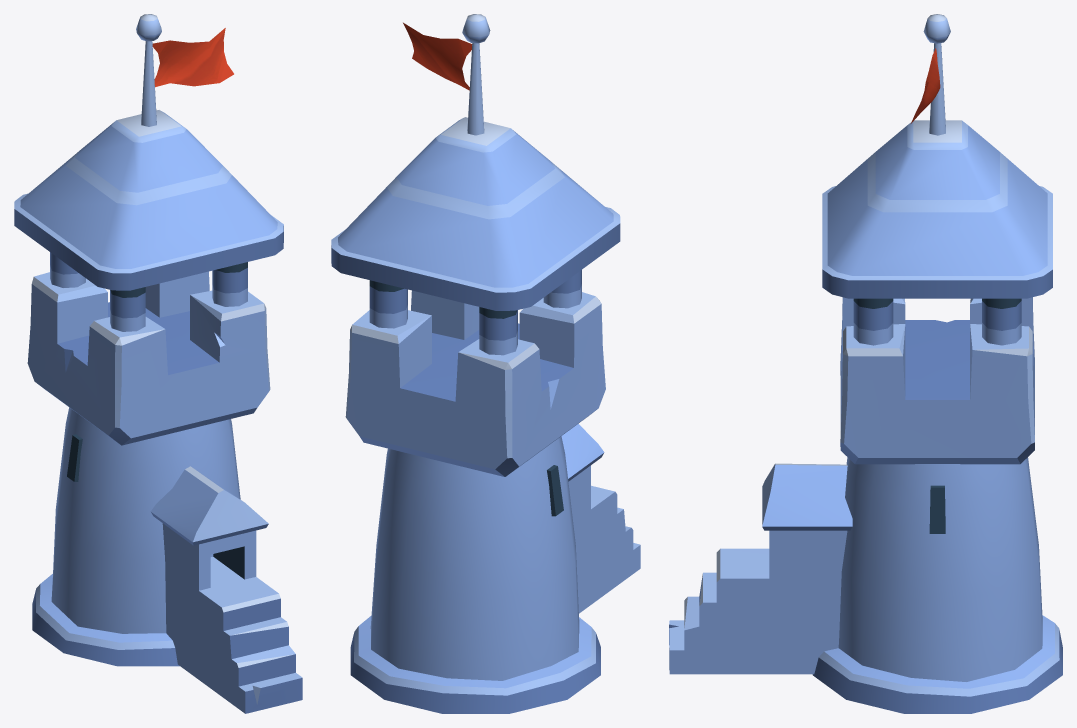
The model's file is Land_XMAS_Reg_S_IceTower.fbx.
3 renders of one model, left to right at view 1: azimuth 30°, elevation 25°; view 2: azimuth 150°, elevation 25°; view 3: azimuth 270°, elevation 25°, orthographic. The views are drawn at different scales.
Visible parts, largest first — view 1: Color_01, Color_03, Color_06, Color_02, Color_04, Color_Cloth_01, Color_09, Color_10, Color_05, Color_12, Color_08; view 2: Color_06, Color_03, Color_01, Color_02, Color_Cloth_01, Color_12, Color_11, Color_04, Color_05, Color_09, Color_08; view 3: Color_06, Color_03, Color_01, Color_02, Color_04, Color_10, Color_11, Color_05, Color_Cloth_01, Color_08.
Boxes of the visible parts, x1,y1,x2,y2 form: Color_01: (27,271,270,445); Color_03: (14,110,283,290); Color_06: (32,407,240,666); Color_02: (162,523,302,713); Color_04: (150,466,268,545); Color_Cloth_01: (152,28,233,87); Color_09: (110,287,145,331); Color_10: (212,262,247,306); Color_05: (141,41,156,126); Color_12: (50,252,85,287); Color_08: (136,14,161,41); Color_06: (350,436,600,713); Color_03: (331,117,620,310); Color_01: (345,290,605,476); Color_02: (568,465,640,613); Color_Cloth_01: (403,22,472,90); Color_12: (479,307,517,355); Color_11: (369,280,407,328); Color_04: (561,424,604,481); Color_05: (467,43,484,135); Color_09: (543,270,581,308); Color_08: (462,14,490,43); Color_06: (812,457,1062,713); Color_03: (822,120,1052,298); Color_01: (840,297,1034,464); Color_02: (669,530,847,674); Color_04: (762,463,852,530); Color_10: (853,298,893,345); Color_11: (982,298,1021,345); Color_05: (929,43,945,135); Color_Cloth_01: (911,48,940,123); Color_08: (923,14,950,43).
Size of the model in its own units: 12.23 by 34.84 by 19.25.
